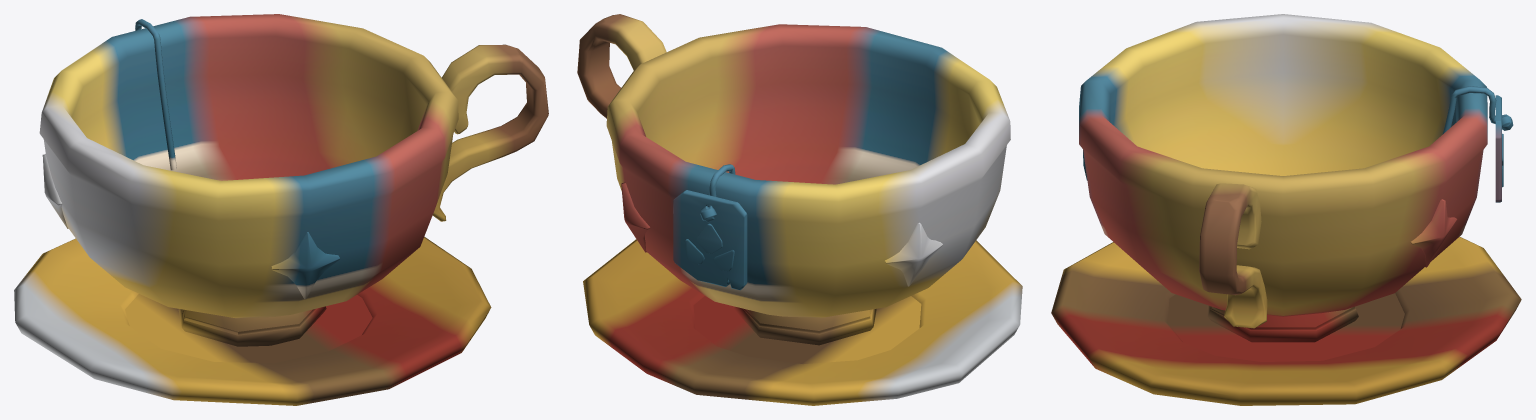
File: Prop_TeaBath.glb
3 views of the same model, side by side, from view 1: azimuth 30°, elevation 25°; view 2: azimuth 150°, elevation 25°; view 3: azimuth 270°, elevation 25° (orthographic). The views are drawn at different scales.
Parts seen in each view (by area): view 1: Prop_TeaBath; view 2: Prop_TeaBath; view 3: Prop_TeaBath.
Boxes of the visible parts, left/top/right/bottom form: Prop_TeaBath: left=14, top=14, right=548, bottom=405; Prop_TeaBath: left=577, top=14, right=1022, bottom=405; Prop_TeaBath: left=1051, top=14, right=1521, bottom=405.
Bounding box in the file's own units: 1.28 × 0.6625 × 1.13.
Materials: 1 (1 with a texture image).
